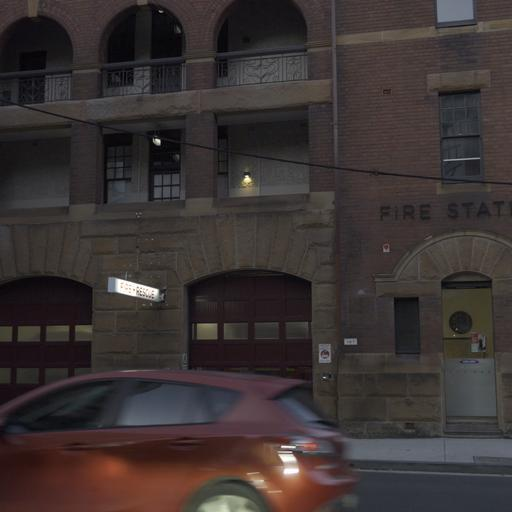Street light: (0, 95, 511, 194), (241, 170, 251, 185), (151, 132, 161, 146)
